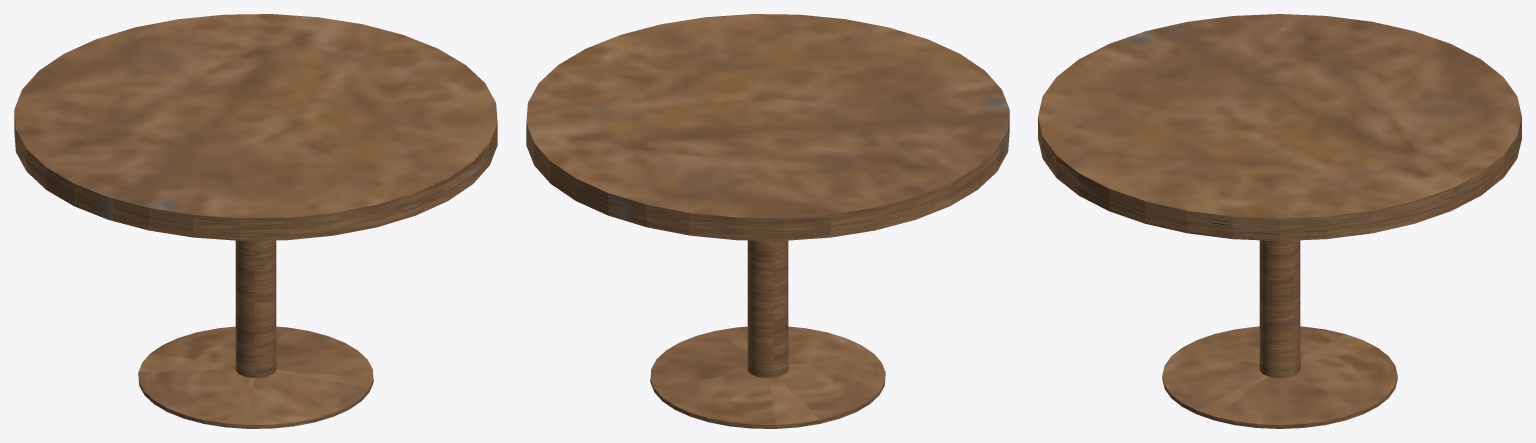
Rendered from table.fbx.
3 views of the same model, side by side, from view 1: azimuth 30°, elevation 25°; view 2: azimuth 150°, elevation 25°; view 3: azimuth 270°, elevation 25° (orthographic).
Visible parts, largest first — view 1: Cylinder.001; view 2: Cylinder.001; view 3: Cylinder.001.
Part boxes in pixels (bbox=[...]): Cylinder.001: bbox=[14, 14, 497, 428]; Cylinder.001: bbox=[526, 14, 1009, 428]; Cylinder.001: bbox=[1038, 14, 1521, 428].
Bounding box in the file's own units: 269 × 161 × 269.
